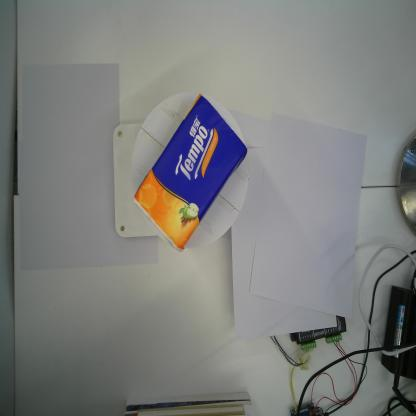Tissue: (132, 92, 247, 253)
